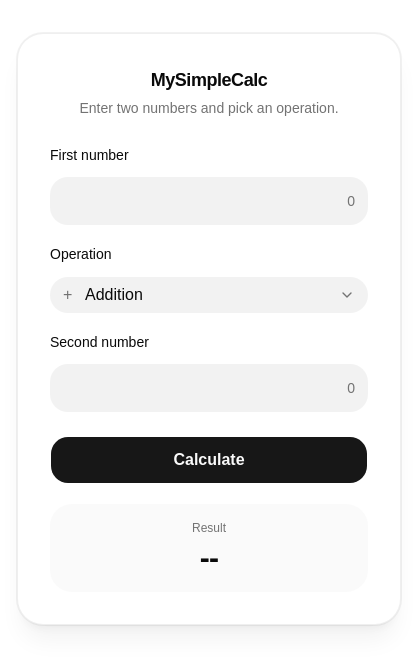
Test case: CalculatorPage › invalid input › reports only the missing operand when the other one is filled
Type "25" into the number field labelled "First number" at (209, 201), box [50,177,368,225]
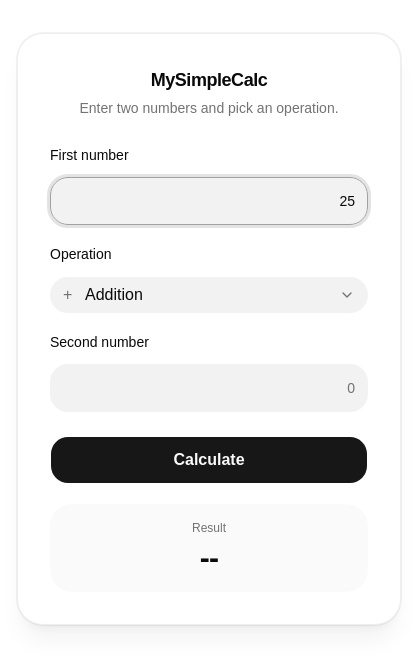
Click the button "Calculate" at (209, 460), box [50,436,368,484]
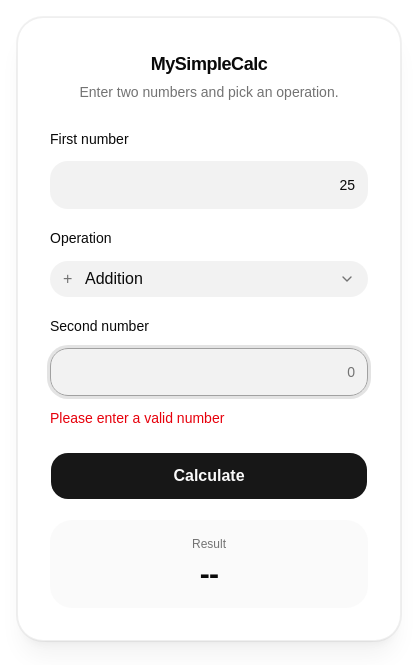
Result: the text "Please enter a valid number" is shown once at [50,410,224,426]
